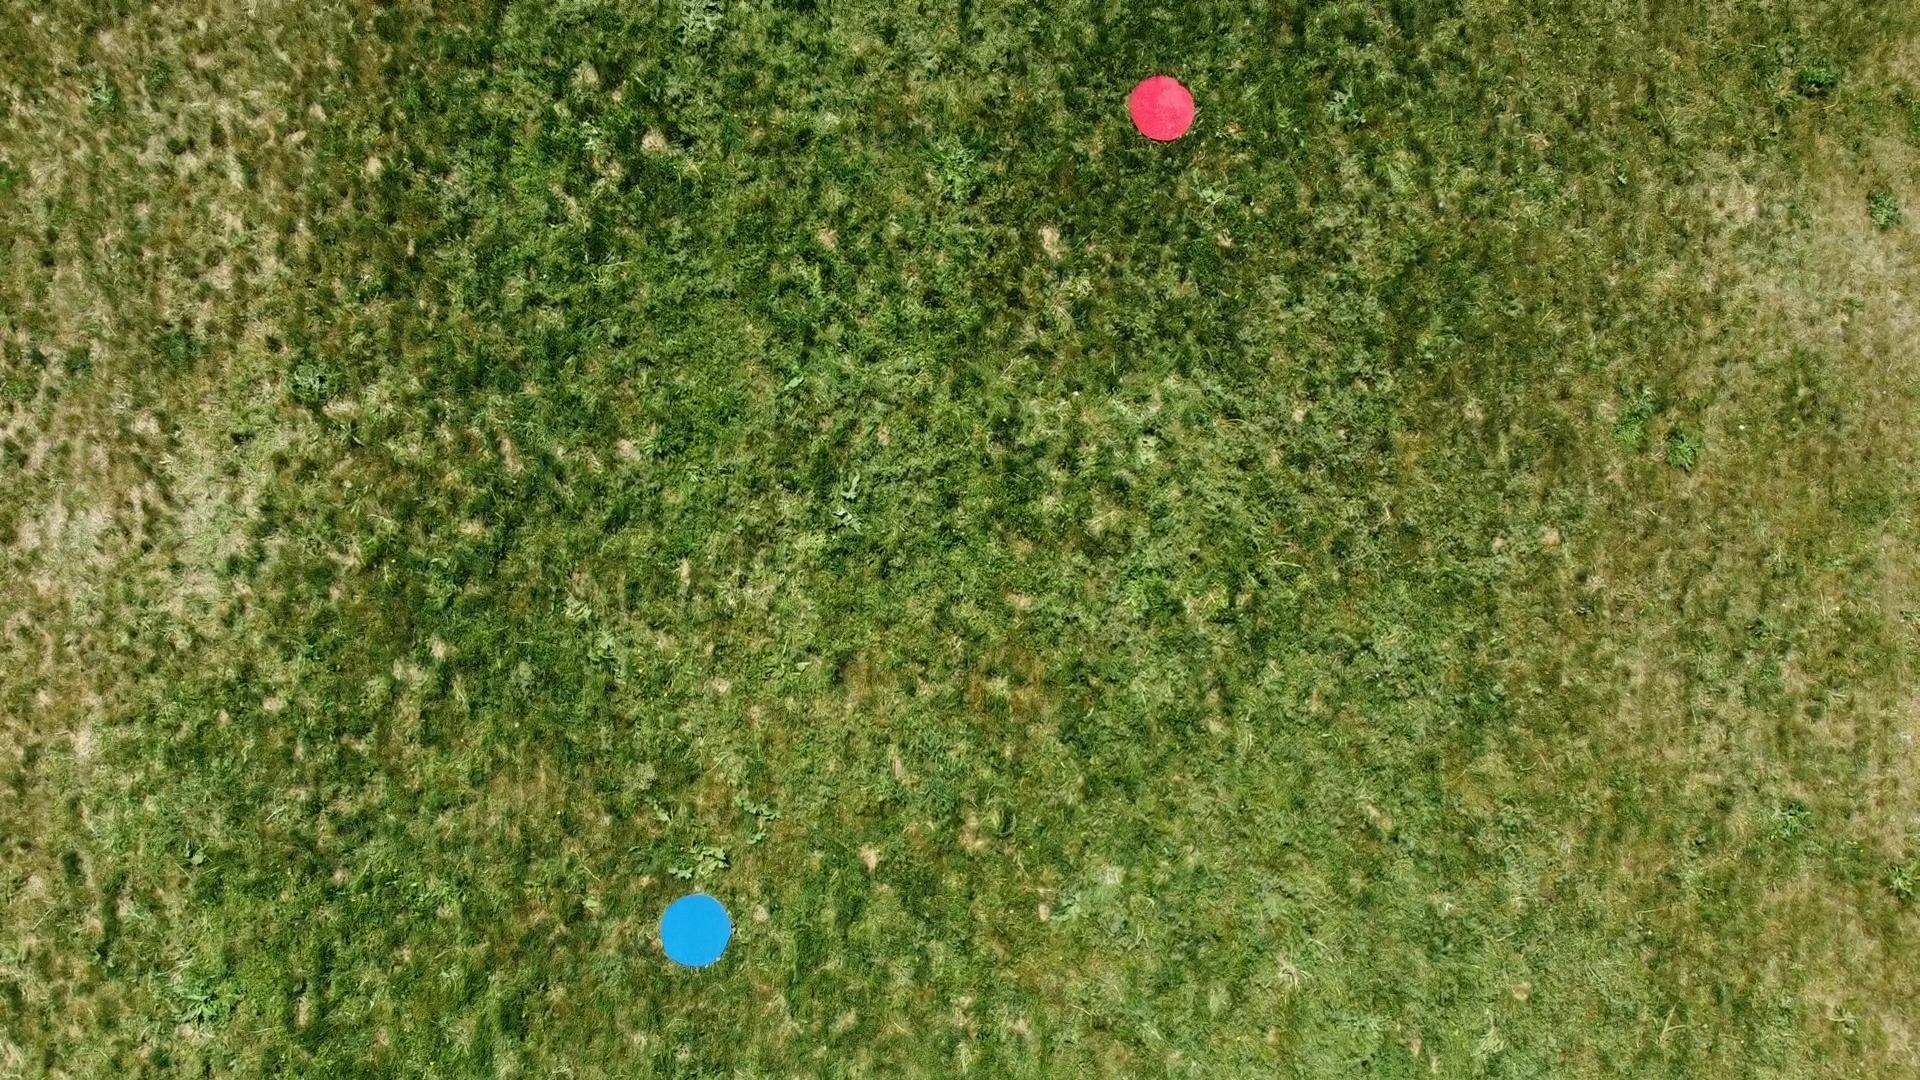Blue: (658, 891, 733, 969)
Red: (1126, 71, 1197, 145)
